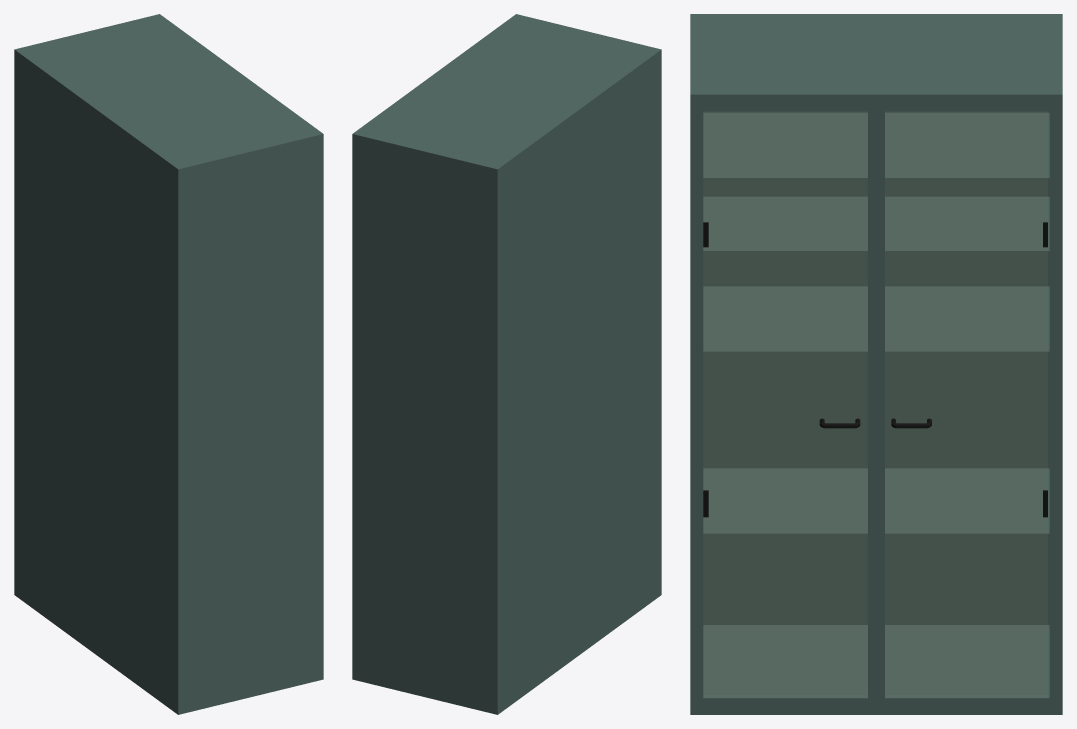
Rendered from Scabin.fbx.
3 renders of one model, left to right at view 1: azimuth 30°, elevation 25°; view 2: azimuth 150°, elevation 25°; view 3: azimuth 270°, elevation 25°, orthographic. The views are drawn at different scales.
Visible parts, largest first — view 1: pCube1; view 2: pCube1; view 3: pCube1, polySurface1.
Part boxes in pixels (x1,y1,x2,y2): pCube1: (14,14,323,714); pCube1: (352,14,661,714); pCube1: (690,14,1062,714); polySurface1: (703,222,1047,517).
Bounding box in the file's own units: 1.06 × 3.59 × 1.95.
